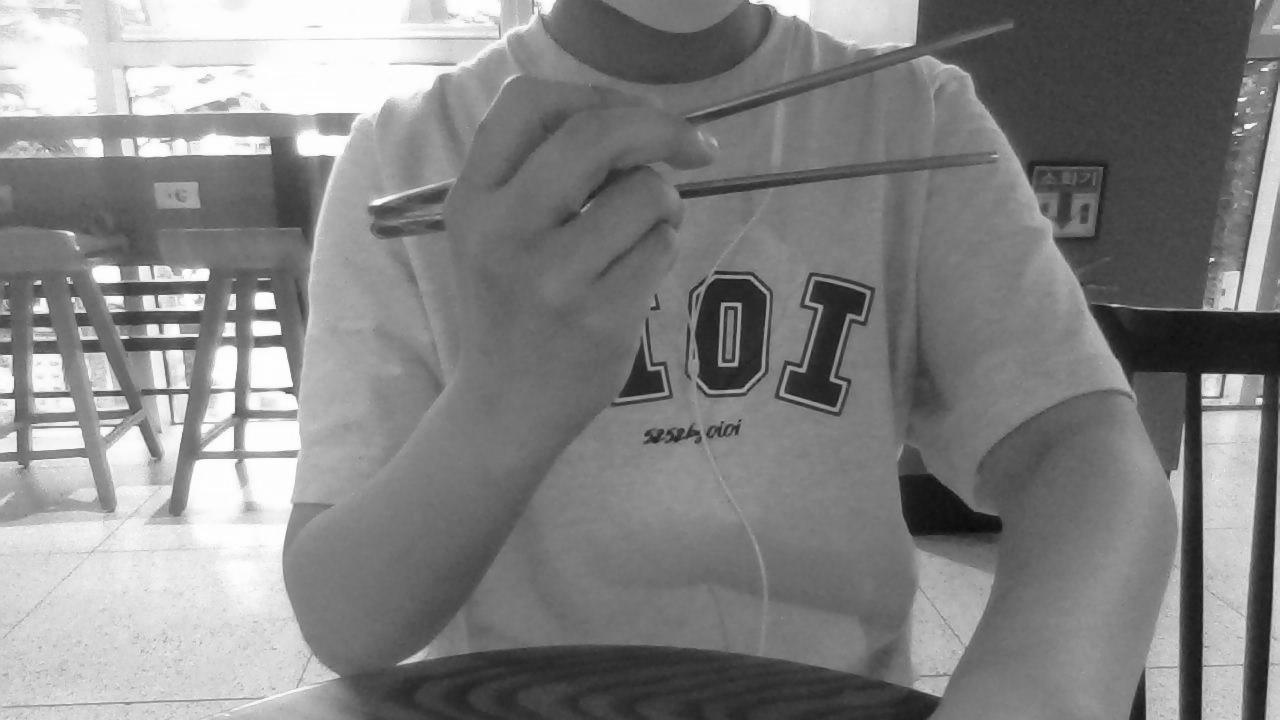chopstick: (368, 26, 1019, 220), (369, 151, 1005, 240)
hand: (445, 72, 723, 422)
